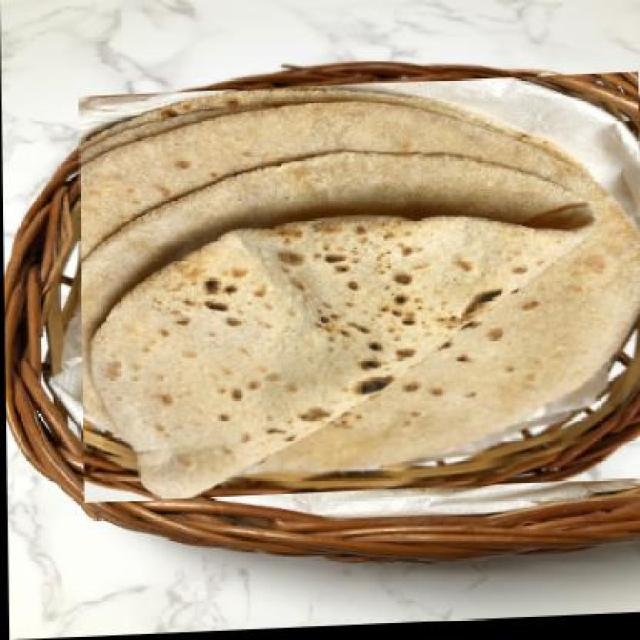chapati: (77, 76, 638, 507)
